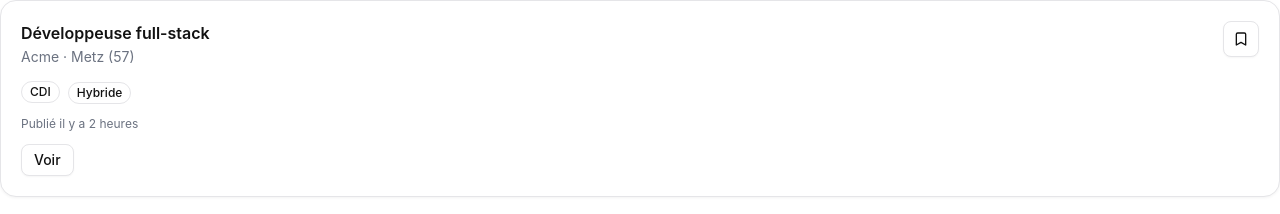
Test: JobCard › affiche une info-bulle quand le teletravail est deduit du texte de l_annonce
Hover over the button "Hybride".
mouse_move(100, 92)  # box x1=68 y1=79 x2=131 y2=104
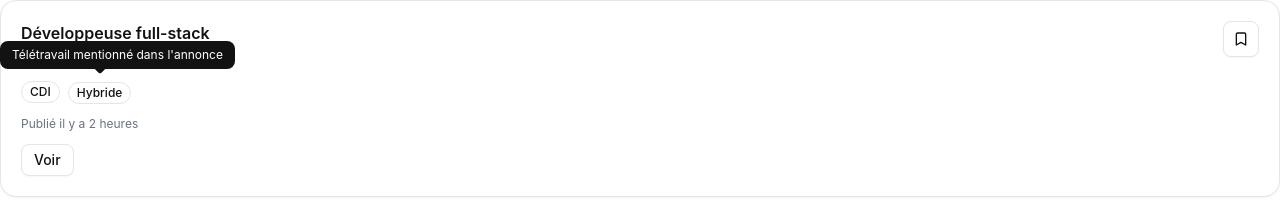
Now the tooltip "Télétravail mentionné dans l'annonce" is shown, box x1=0 y1=41 x2=235 y2=69
